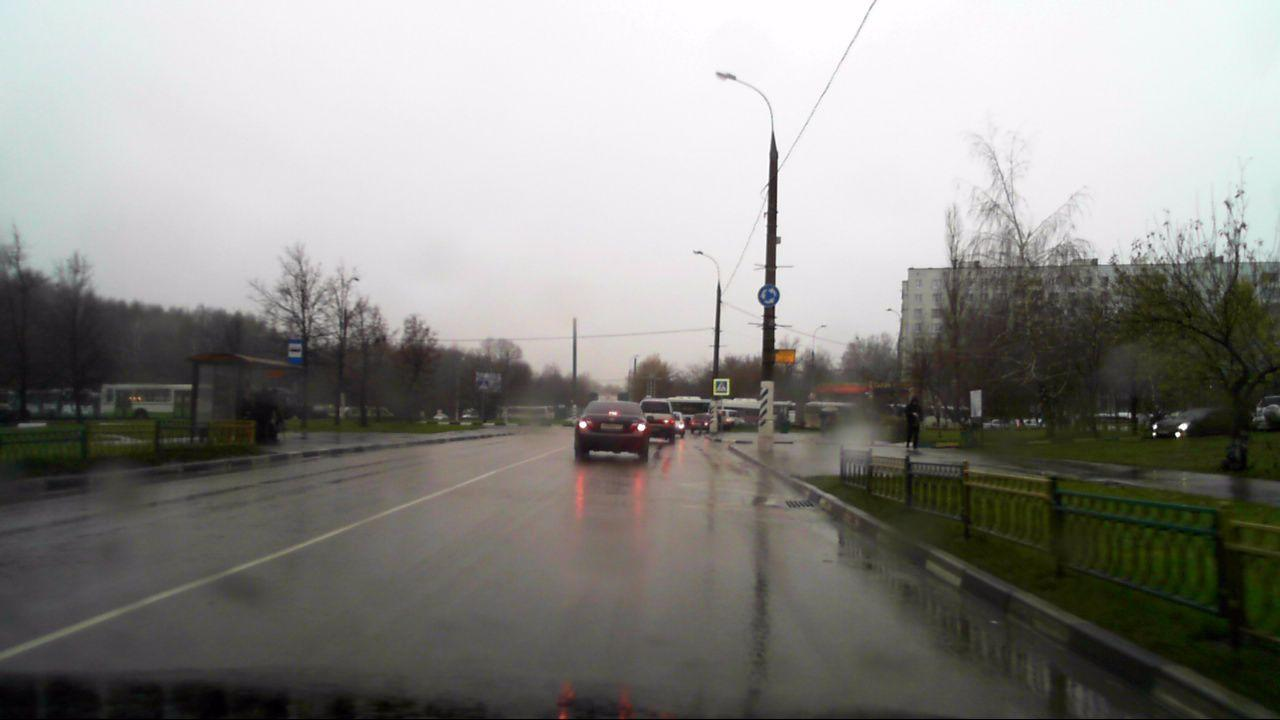road_sign: (758, 284, 780, 307), (713, 378, 731, 396)
